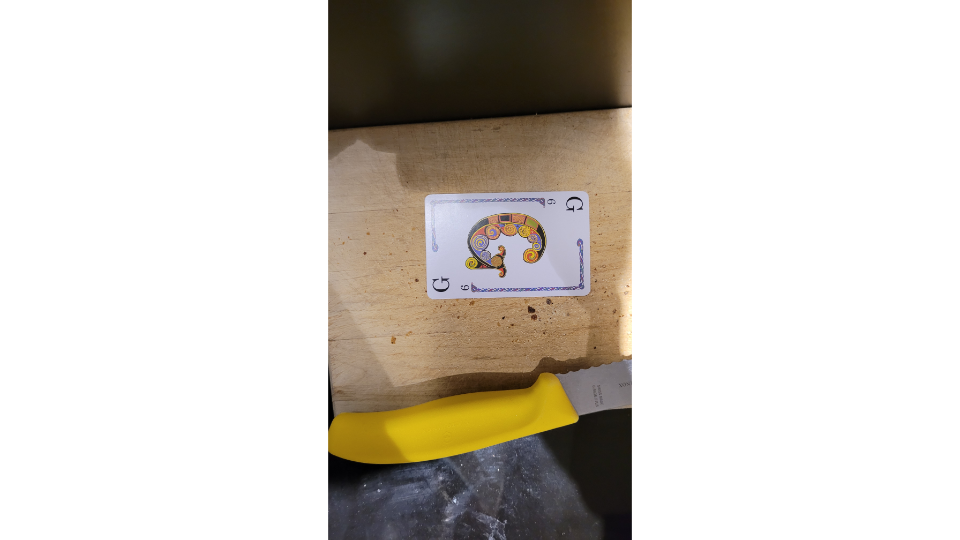G: (422, 190, 593, 302)
